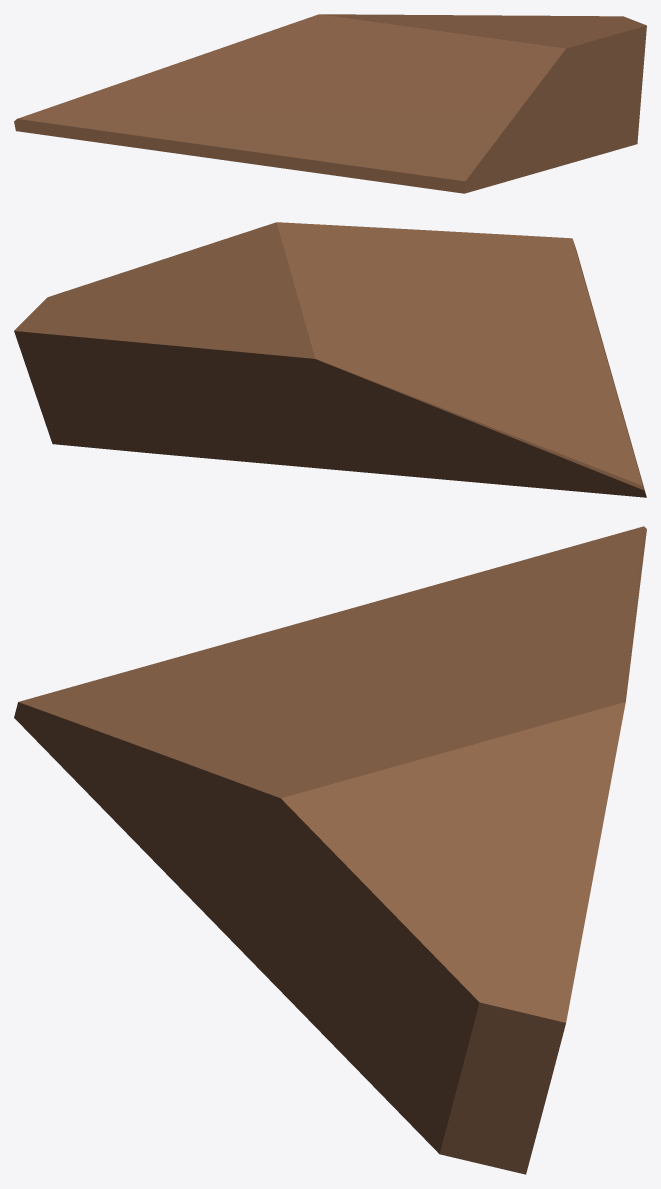
The model's file is WoodCellCube_003_cell_029.fbx.
3 views of the same model, one above another, from view 1: azimuth 30°, elevation 25°; view 2: azimuth 150°, elevation 25°; view 3: azimuth 270°, elevation 25° (orthographic). The views are drawn at different scales.
Parts seen in each view (by area): view 1: WoodCellCube_003_cell_029; view 2: WoodCellCube_003_cell_029; view 3: WoodCellCube_003_cell_029.
Part boxes in pixels (x1=…): WoodCellCube_003_cell_029: x1=14, y1=14, x2=646, y2=193; WoodCellCube_003_cell_029: x1=14, y1=222, x2=646, y2=497; WoodCellCube_003_cell_029: x1=14, y1=526, x2=646, y2=1174.
Size of the model in its own units: 0.4905 by 0.2383 by 0.8486.
Materials: 1 (1 with a texture image).
